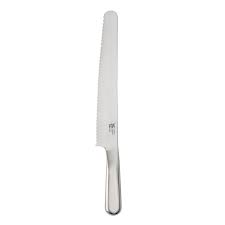knife: (94, 8, 123, 216)
